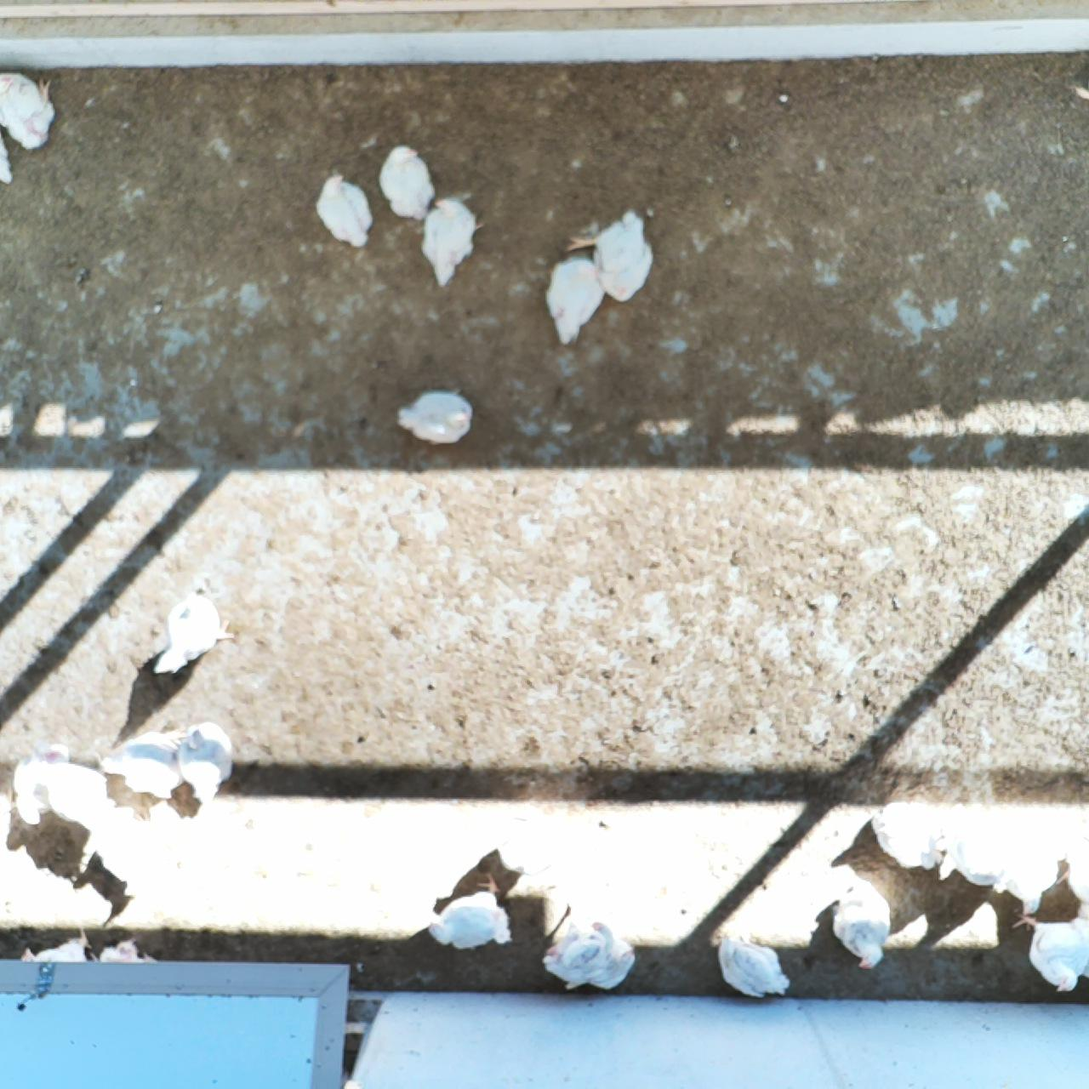chicken: (563, 207, 656, 304), (146, 584, 237, 682), (417, 868, 517, 954), (537, 913, 639, 993), (826, 871, 896, 973), (92, 728, 189, 801), (1010, 903, 1089, 992), (418, 192, 488, 291), (541, 250, 606, 352), (867, 800, 950, 877), (714, 929, 795, 1006), (997, 820, 1063, 913), (175, 718, 238, 809), (10, 744, 73, 832), (395, 385, 478, 450), (484, 809, 567, 874), (315, 171, 375, 252), (0, 70, 59, 152), (379, 143, 438, 225), (941, 809, 1002, 887), (18, 923, 94, 967), (48, 766, 106, 823)
